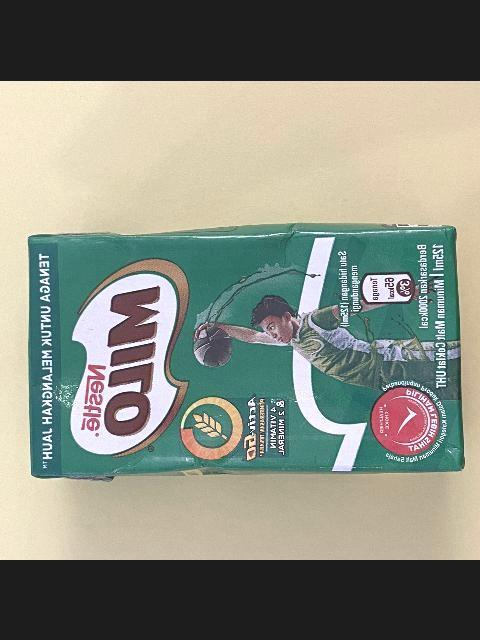drinkpack: (22, 220, 468, 482)
